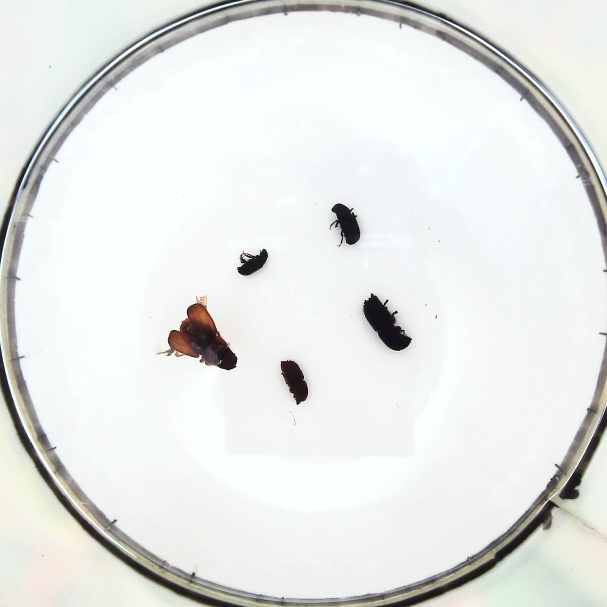armandi: (329, 202, 360, 248)
boerner: (361, 290, 411, 352)
coleoptera: (238, 246, 268, 275)
leconte: (162, 300, 239, 370)
linnaeus: (279, 359, 311, 403)
